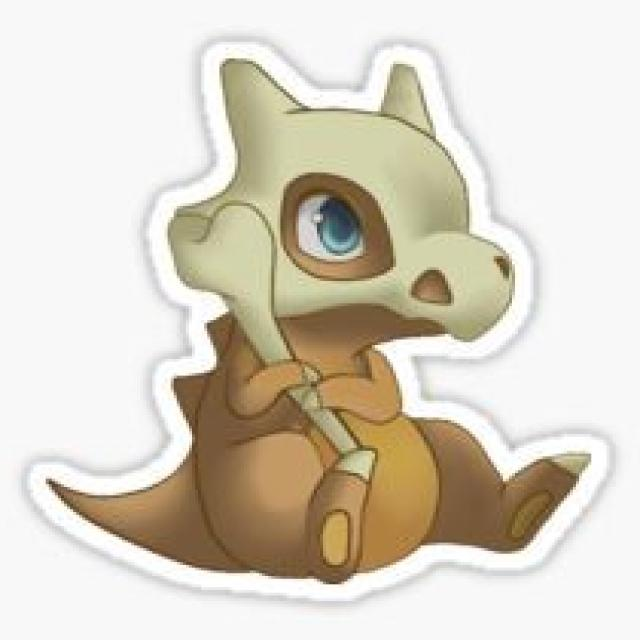Cubone: (133, 59, 567, 580)
